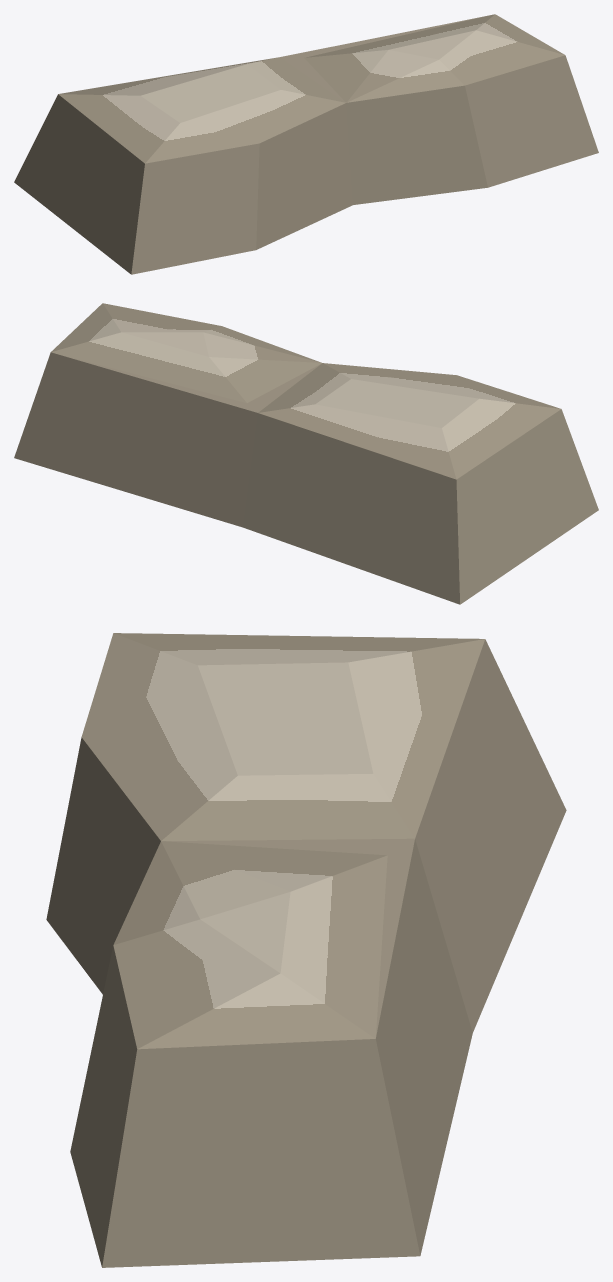
Rendered from Rock_01.fbx.
The picture shows the model from 3 angles, top to bottom: view 1: azimuth 30°, elevation 25°; view 2: azimuth 150°, elevation 25°; view 3: azimuth 270°, elevation 25°; orthographic projection. The views are drawn at different scales.
Visible parts, largest first — view 1: Rock_01; view 2: Rock_01; view 3: Rock_01.
Part boxes in pixels (x1,y1,x2,y2): Rock_01: [14, 14, 598, 274]; Rock_01: [14, 303, 598, 604]; Rock_01: [46, 633, 566, 1267].
Bounding box in the file's own units: 74.39 × 16.31 × 35.23.
Materials: 1 (1 with a texture image).
